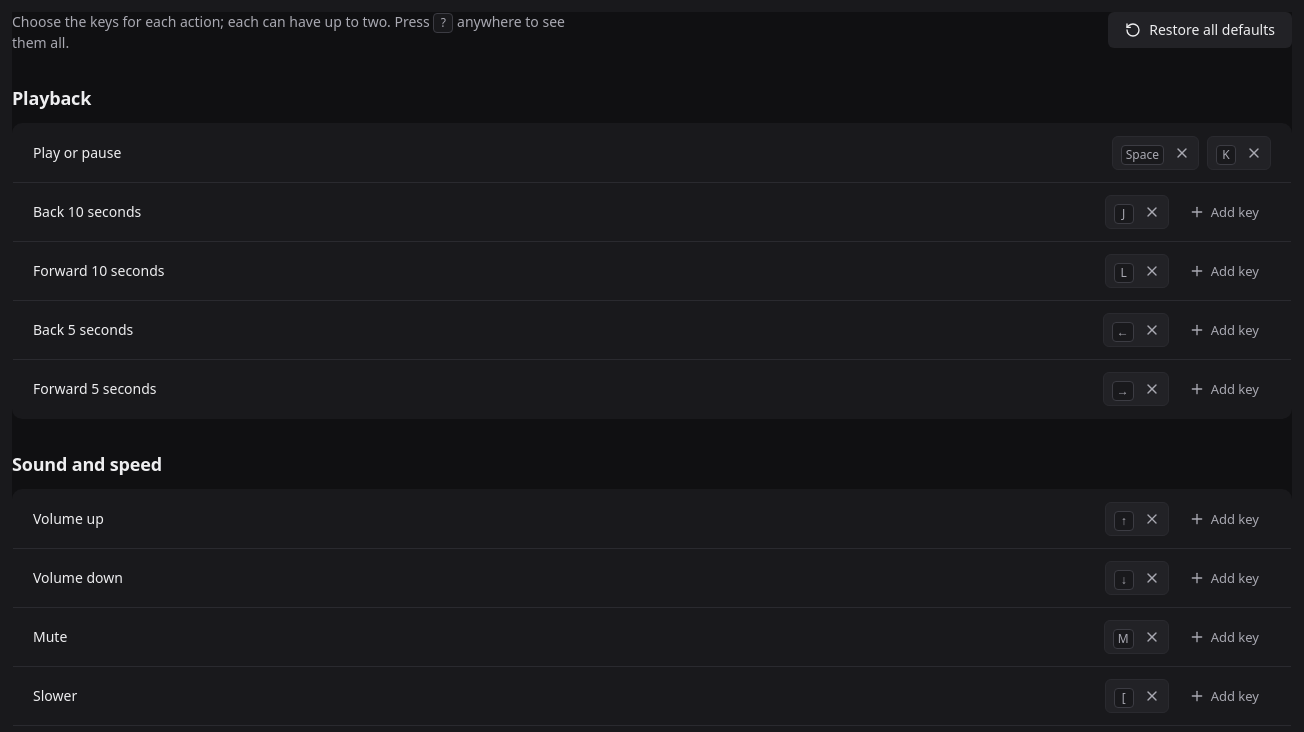
ShortcutsSettings › records a new key for an action
Click the button with aria-label "Add a key for Mute" at (1224, 637), box [1177, 621, 1271, 653]
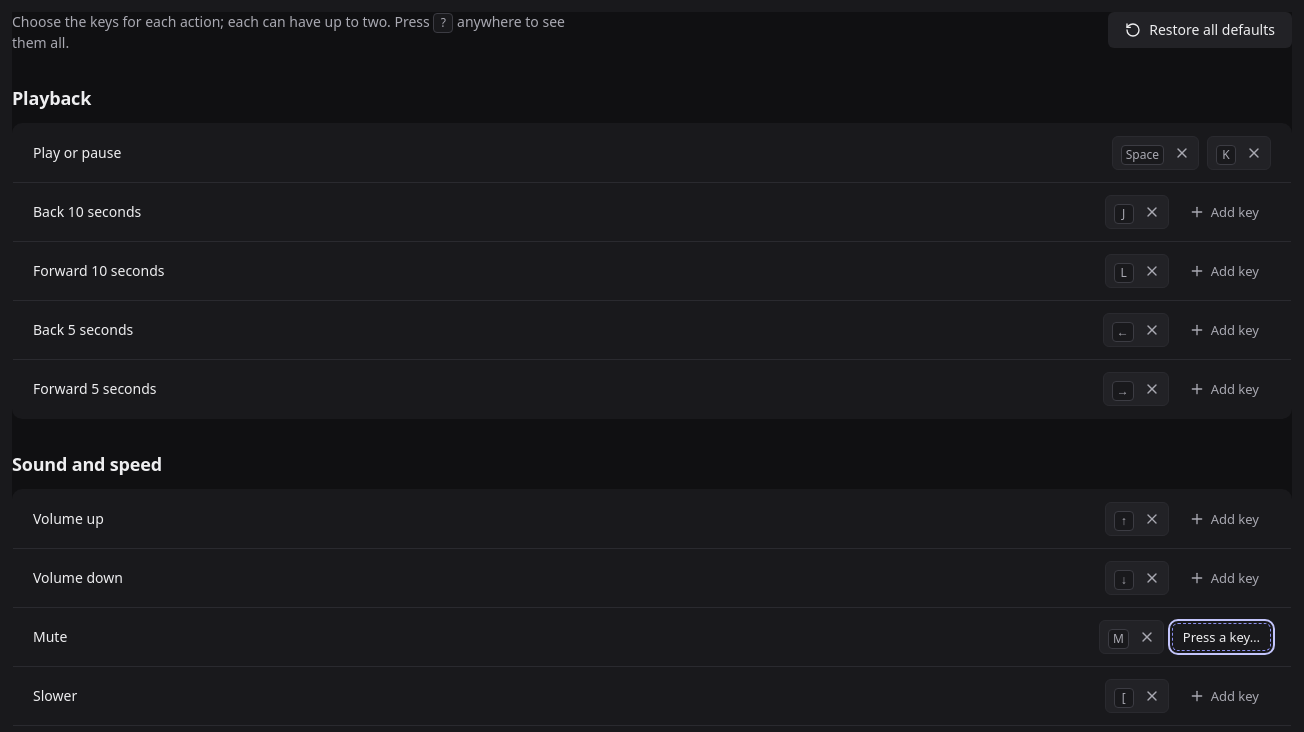
Type keys "n"
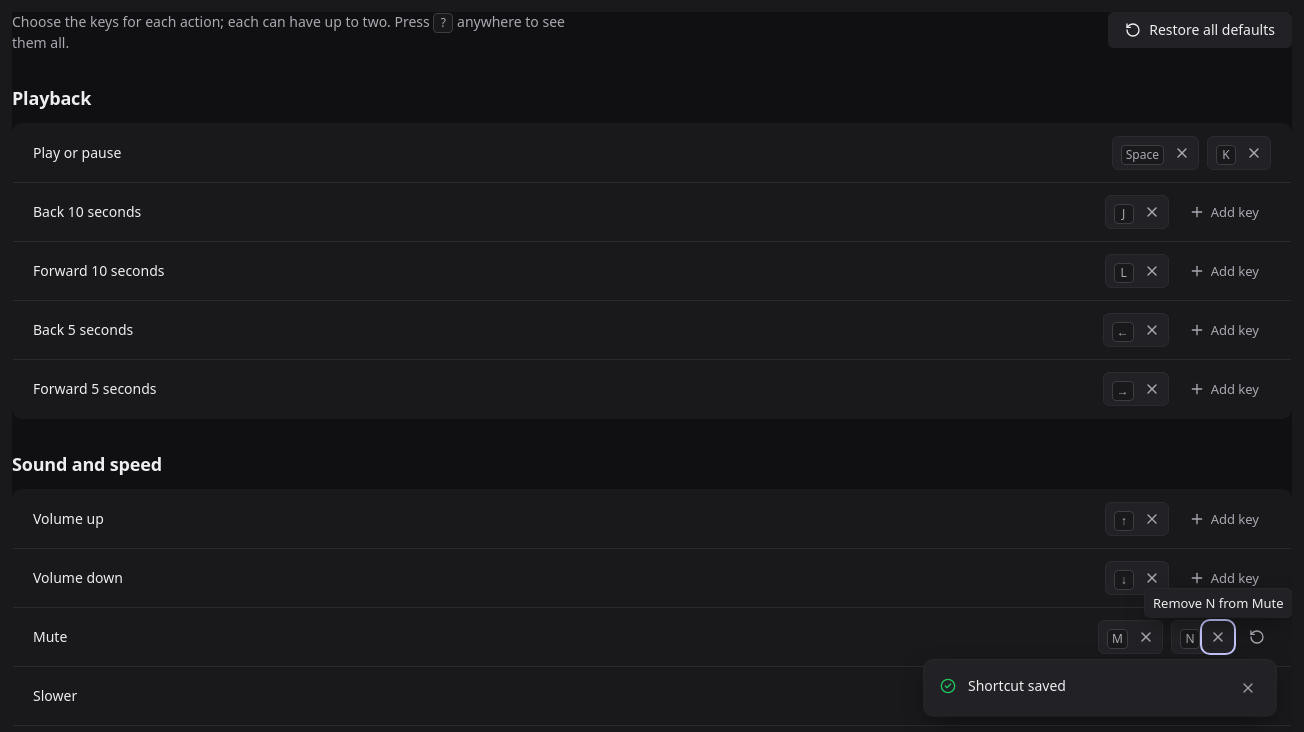
expect the text "Shortcut saved" is shown: met, box [968, 676, 1066, 695]
